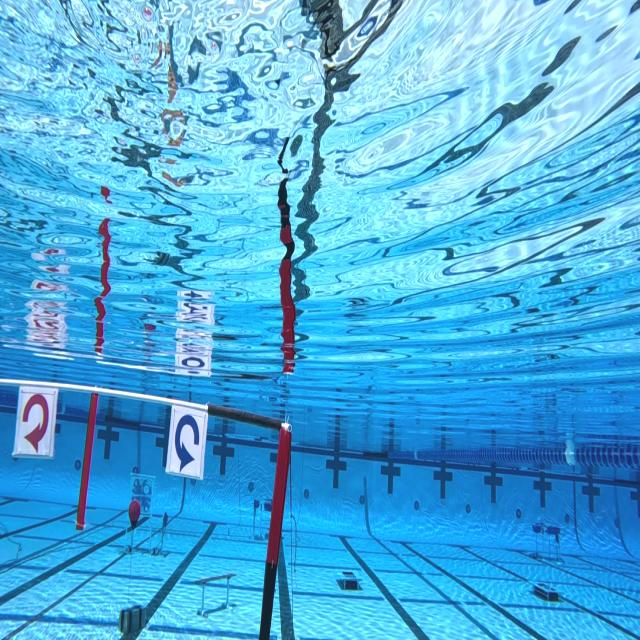blue_side: (160, 397, 212, 486)
red_side: (8, 378, 64, 468)
